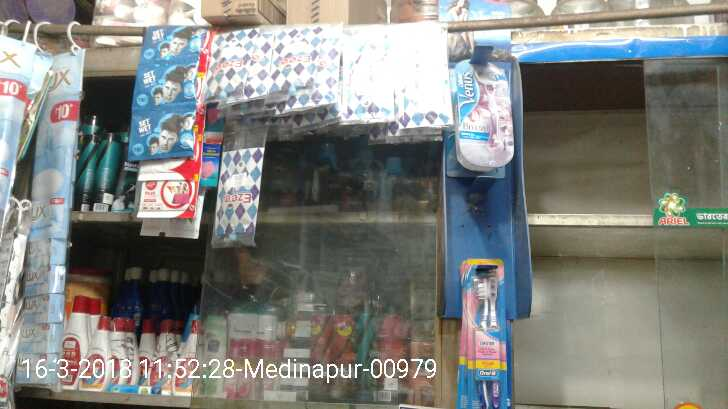beauty: (454, 53, 519, 175)
pharmacy: (456, 261, 519, 407)
